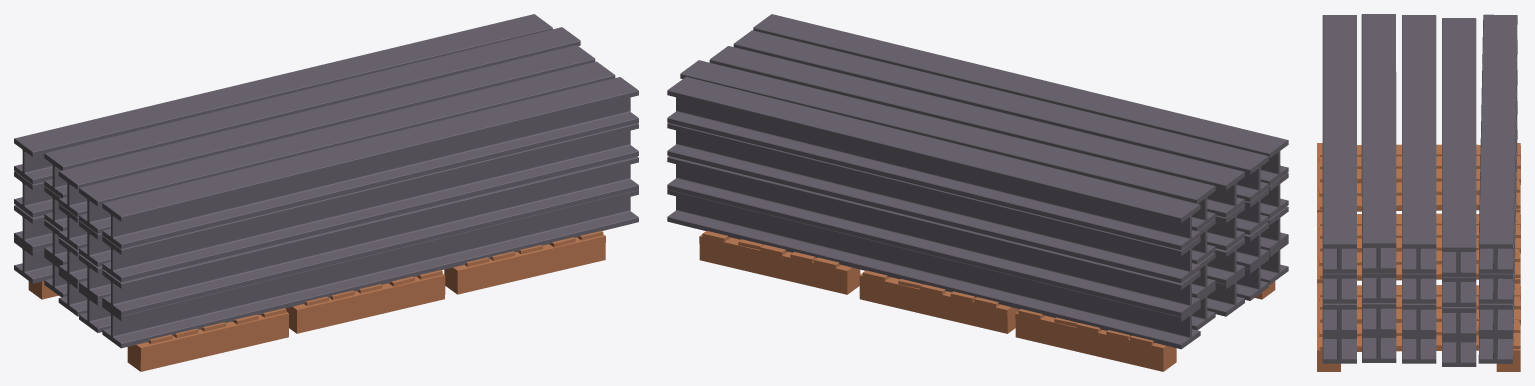
Rendered from Palet__metal.fbx.
The picture shows the model from 3 angles, left to right: view 1: azimuth 30°, elevation 25°; view 2: azimuth 150°, elevation 25°; view 3: azimuth 270°, elevation 25°; orthographic projection. The views are drawn at different scales.
Parts seen in each view (by area): view 1: Metal, Palet; view 2: Metal, Palet; view 3: Metal, Palet.
Part boxes in pixels (left/top/right/bottom): Metal: left=14, top=14, right=638, bottom=348; Palet: left=28, top=231, right=605, bottom=371; Metal: left=667, top=14, right=1288, bottom=349; Palet: left=699, top=231, right=1275, bottom=371; Metal: left=1322, top=14, right=1517, bottom=366; Palet: left=1317, top=143, right=1520, bottom=371.
Bounding box in the file's own units: 356 × 102 × 131.
